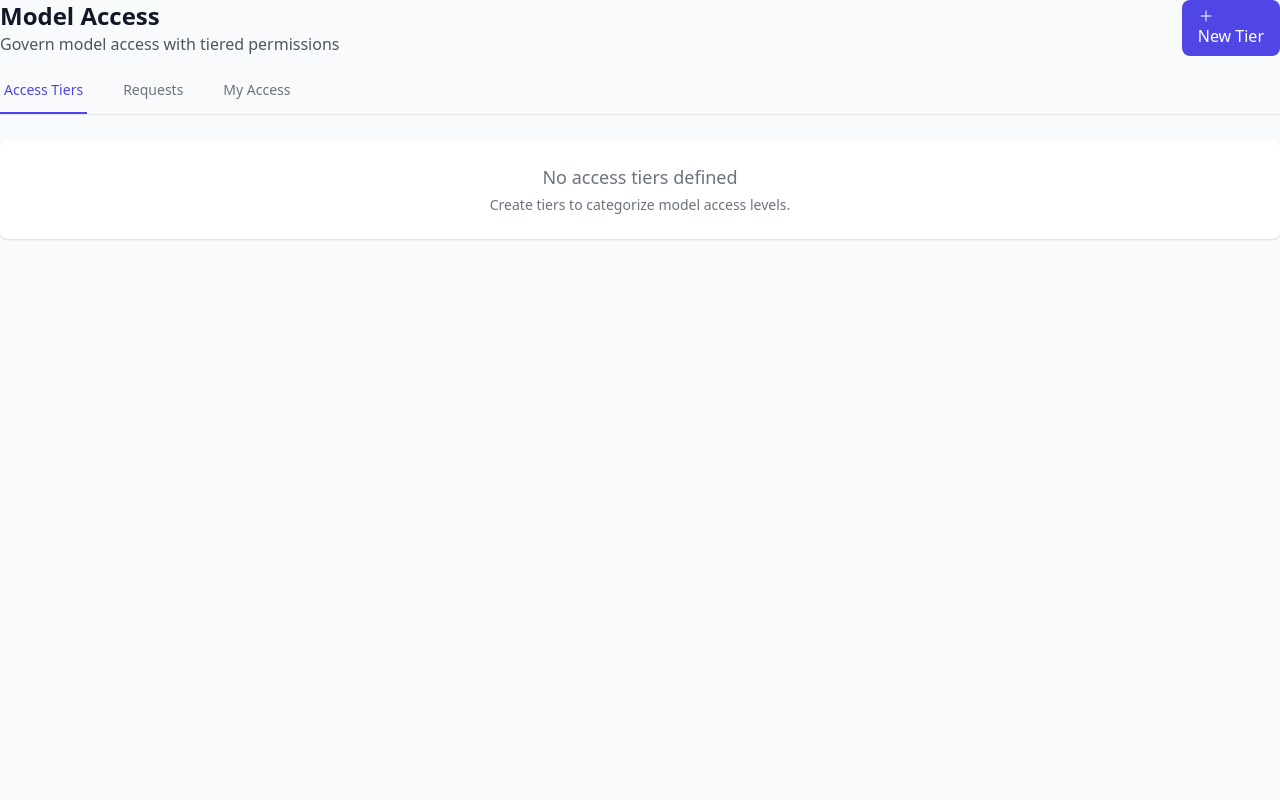
Test: ModelAccess › opens and closes create tier modal
Click the button "New Tier". click: {"x": 1231, "y": 28}
box: [1182,0,1279,56]
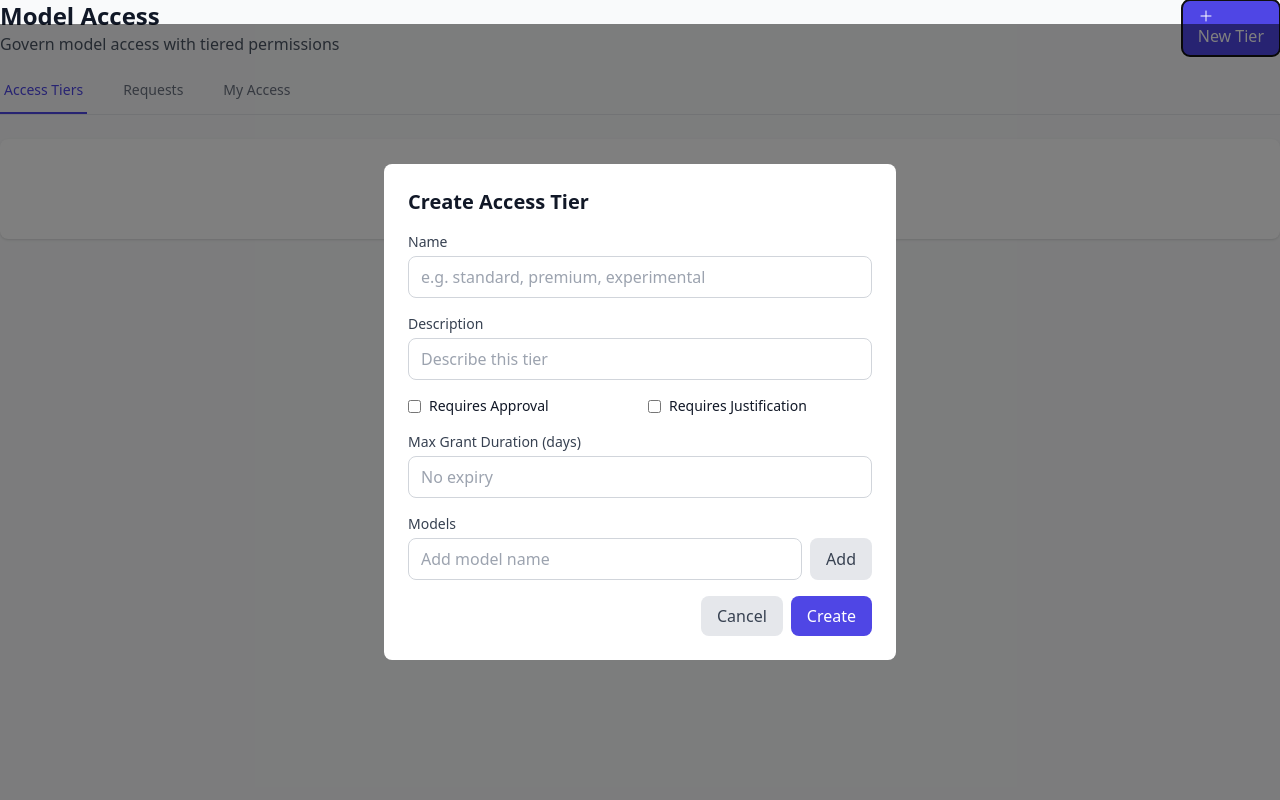
Expected: the heading "Create Access Tier" is shown, [408,188,589,215]
Expected: the field with placeholder "e.g. standard, premium, experimental" is shown, [408,256,872,298]
Expected: the field with placeholder "Describe this tier" is shown, [408,338,872,380]
Click the button "Cancel". click: {"x": 742, "y": 616}
box: [701,596,783,636]
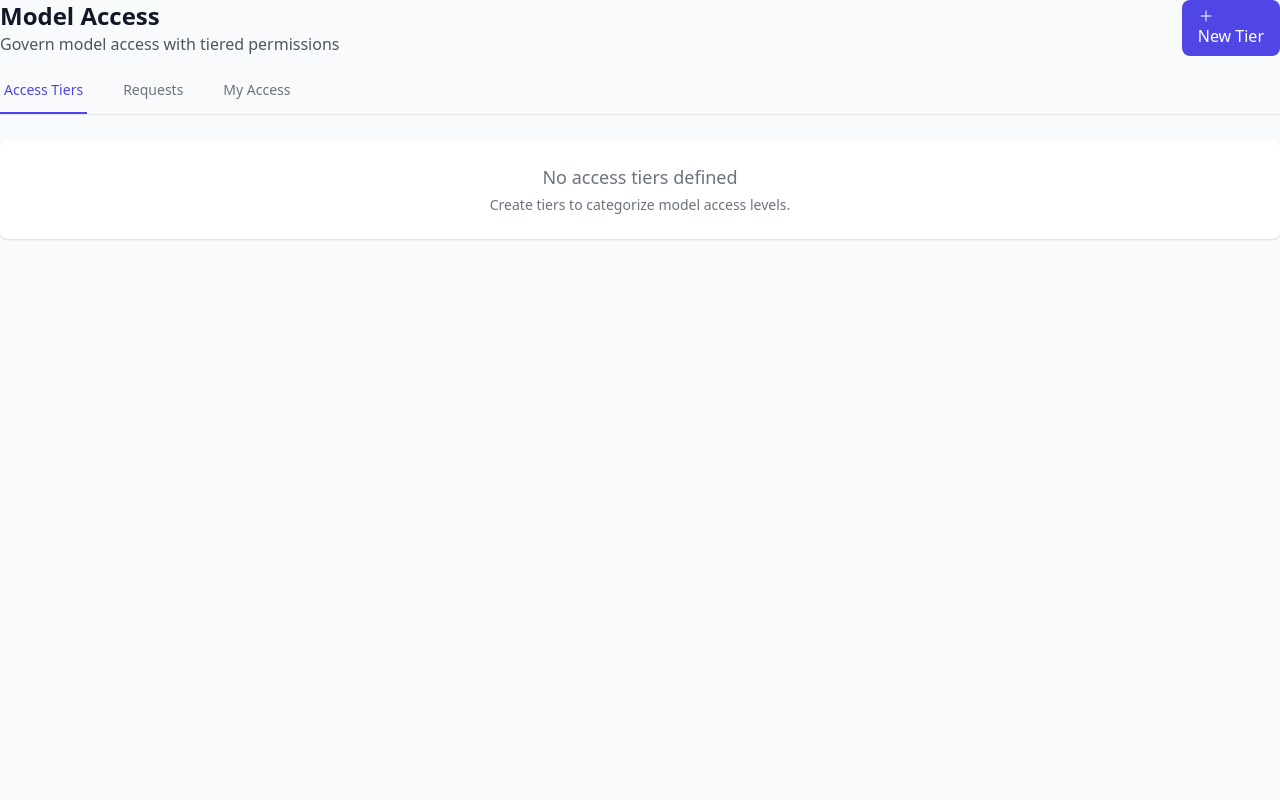
Expected: the heading "Create Access Tier" is gone
